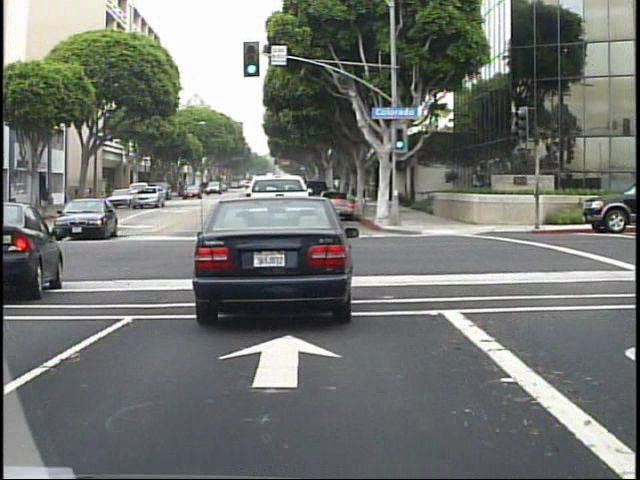person: (38, 183, 56, 218)
